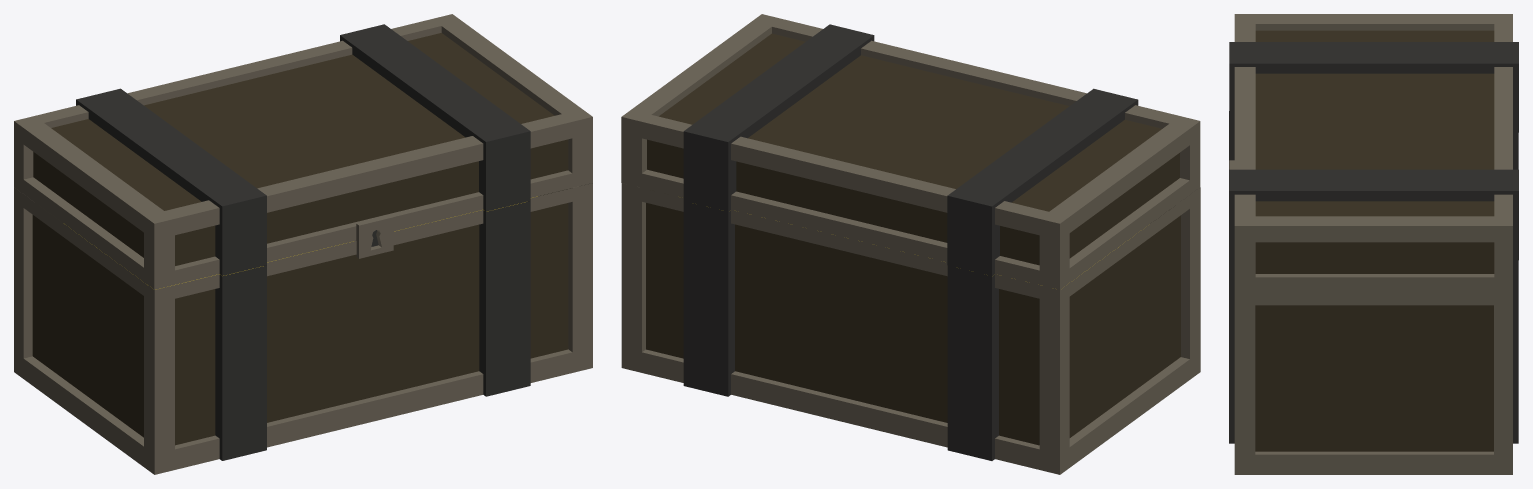
Rendered from Cofre-Común.fbx.
3 renders of one model, left to right at view 1: azimuth 30°, elevation 25°; view 2: azimuth 150°, elevation 25°; view 3: azimuth 270°, elevation 25°, orthographic.
Parts seen in each view (by area): view 1: Cube, Cube.004; view 2: Cube, Cube.004; view 3: Cube.004, Cube.
Part boxes in pixels (left/top/right/bottom): Cube: left=14, top=183, right=592, bottom=474; Cube.004: left=14, top=14, right=592, bottom=289; Cube: left=621, top=183, right=1200, bottom=474; Cube.004: left=621, top=14, right=1200, bottom=289; Cube.004: left=1229, top=14, right=1518, bottom=291; Cube: left=1229, top=111, right=1518, bottom=474.
Bounding box in the file's own units: 2 × 1.11 × 1.16.
